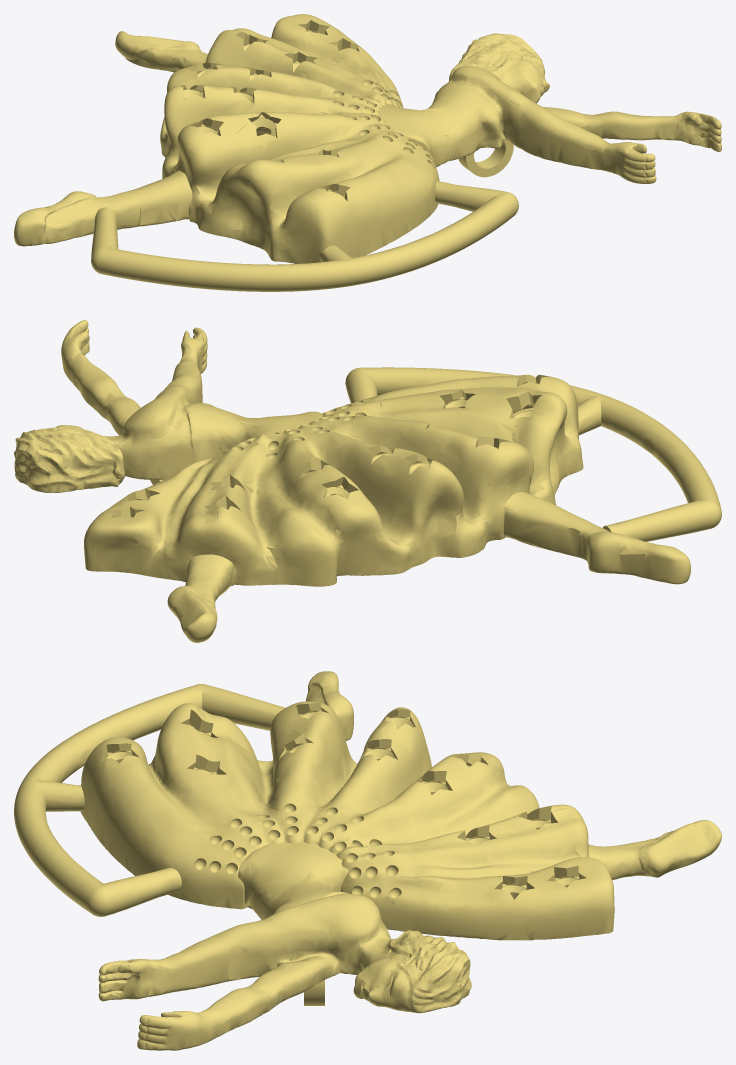
File: kolyeler2-20_balerin4.glb
3 renders of one model, top to bottom at view 1: azimuth 30°, elevation 25°; view 2: azimuth 150°, elevation 25°; view 3: azimuth 270°, elevation 25°, orthographic. The views are drawn at different scales.
Parts seen in each view (by area): view 1: Renderer Node; view 2: Renderer Node; view 3: Renderer Node.
Boxes of the visible parts, x1,y1,x2,y2 form: Renderer Node: (14, 14, 721, 291); Renderer Node: (14, 320, 721, 642); Renderer Node: (14, 671, 721, 1050).
Bounding box in the file's own units: 39.66 × 7.47 × 33.36.
